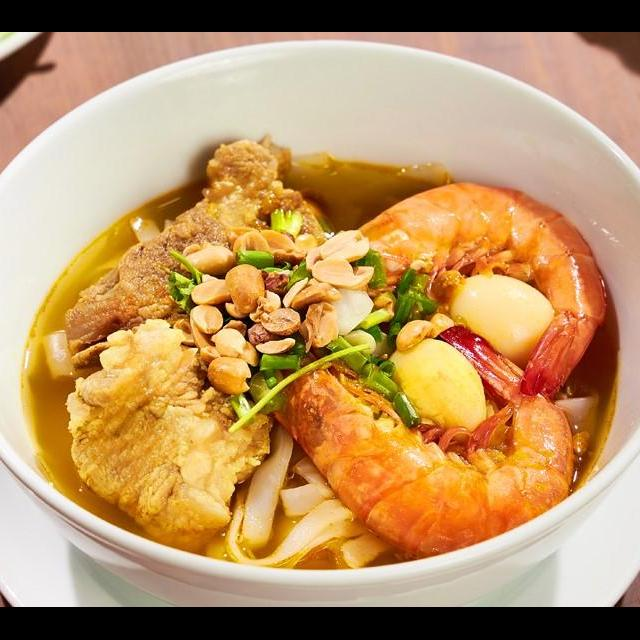mi: (198, 420, 398, 574)
thit heo: (56, 130, 338, 372), (58, 314, 274, 552)
tom: (268, 319, 578, 562), (326, 176, 608, 408)
trung: (382, 336, 493, 441), (444, 270, 558, 366)
